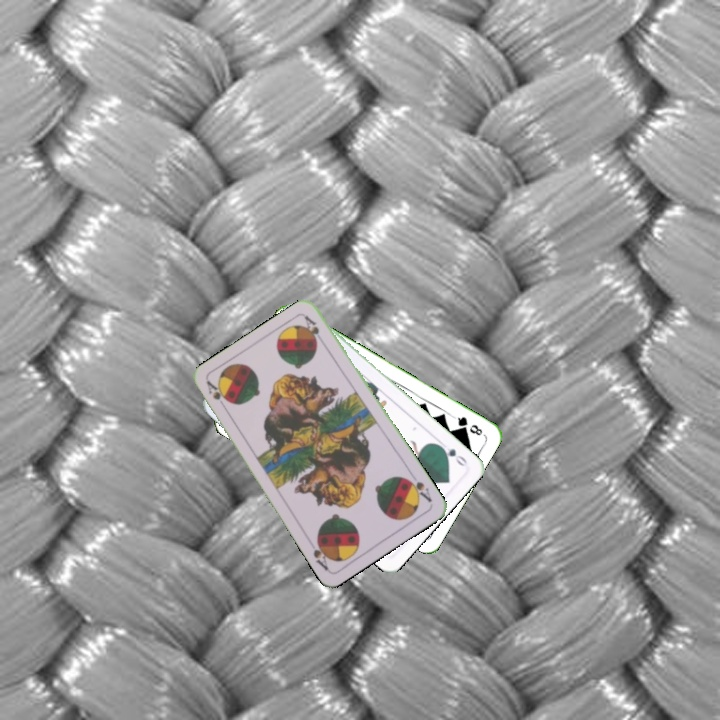G8: (450, 412, 485, 438)
GO: (434, 441, 470, 469)
SA: (203, 377, 231, 414), (402, 474, 434, 505)
